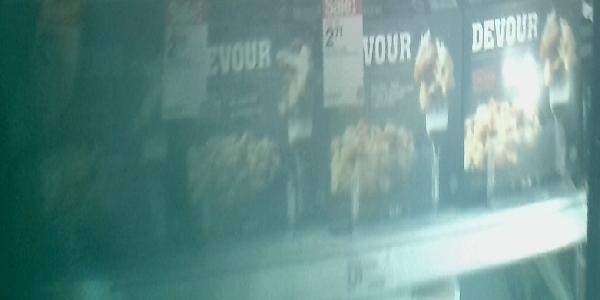pizza1: (3, 1, 160, 259), (160, 1, 322, 247), (321, 1, 465, 236), (468, 1, 598, 207)
